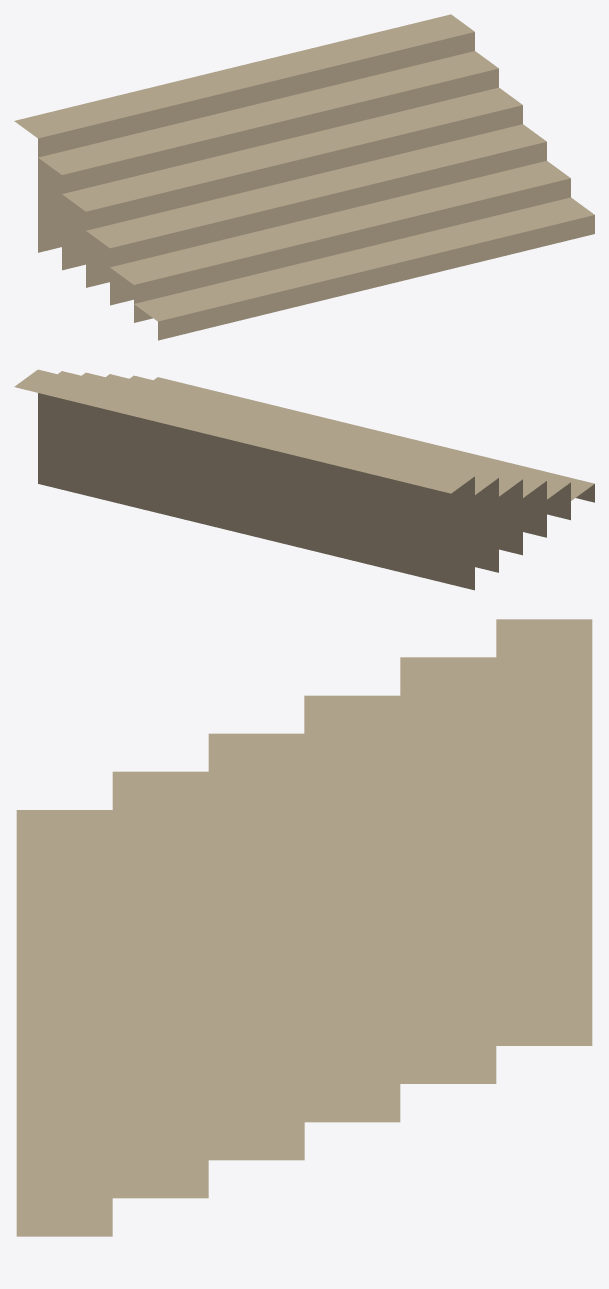
Rendered from stair_flight.glb.
The picture shows the model from 3 angles, top to bottom: view 1: azimuth 30°, elevation 25°; view 2: azimuth 150°, elevation 25°; view 3: azimuth 270°, elevation 25°; orthographic projection. The views are drawn at different scales.
Parts seen in each view (by area): view 1: stair_flight; view 2: stair_flight; view 3: stair_flight.
Boxes of the visible parts, box(x1,y1,x2,y2) form: stair_flight: box(14, 14, 594, 340); stair_flight: box(14, 369, 594, 590); stair_flight: box(16, 619, 592, 1236).
Bounding box in the file's own units: 4 × 1 × 2.28.
